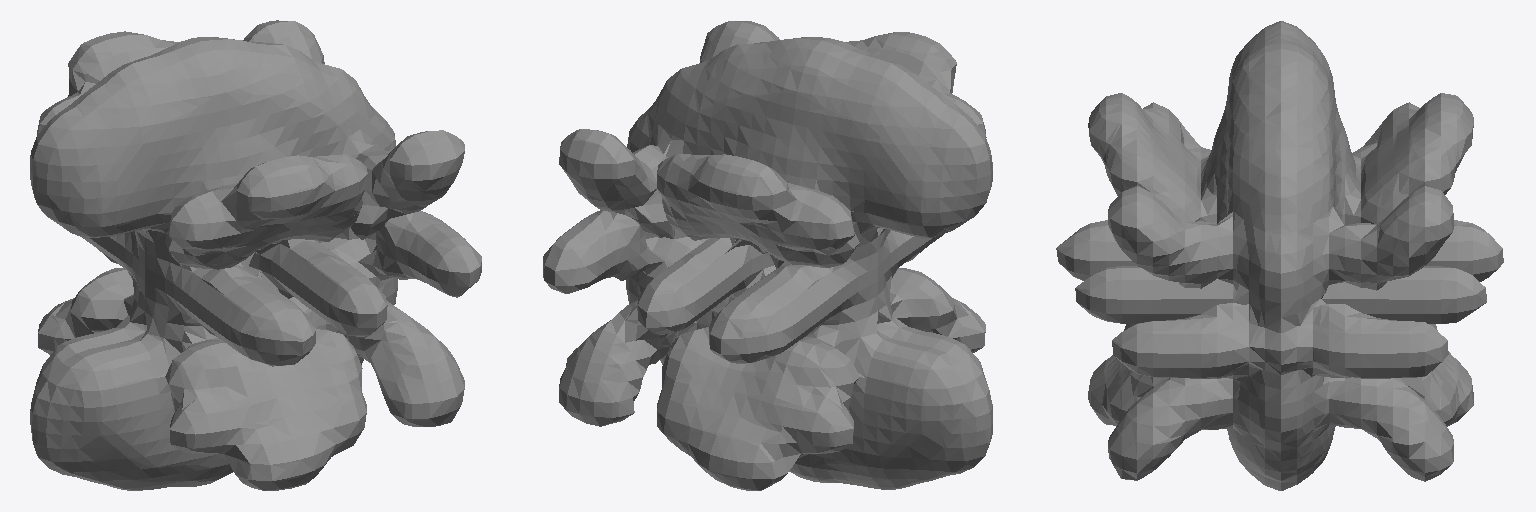
URDF robot description (cube.urdf):
<?xml version="0.0" ?> 
<robot name="cube.urdf"> 
<link name="legobrick"> 
<contact> 
<lateral_friction value="5.0"/> 
<rolling_friction value="0.0"/> 
<contact_cfm value="0.0"/> 
<contact_erp value="1.0"/> 
</contact> 
<inertial> 
<origin rpy="0 0 0" xyz="0.0 0.0 0.0"/> 
<mass value=".01"/> 
<inertia ixx="1" ixy="0" ixz="0" iyy="1" iyz="0" izz="1"/> 
</inertial> 
<visual> 
<origin rpy="1.570796 0 0" xyz="-0.027473672416160572 0.02736419058088714 -0.02732782996008111"/> 
<geometry> 
<mesh filename="N25_1.obj" scale="0.0006629928527070131 0.0006629928527070131 0.0006629928527070131"/> 
</geometry> 
<material name="yellow"> 
<color rgba="0.6 0.6 0.6 1"/> 
</material> 
</visual> 
<collision> 
<origin rpy="1.570796 0 0" xyz="-0.027473672416160572 0.02736419058088714 -0.02732782996008111"/> 
<geometry> 
<mesh filename="N25_1.obj" scale="0.0006629928527070131 0.0006629928527070131 0.0006629928527070131"/> 
</geometry> 
</collision> 
</link> 
</robot>

--- Facts derived from the render (not from the file) ---
3 views of the same robot in one strip: view 1: azimuth 30°, elevation 25°; view 2: azimuth 150°, elevation 25°; view 3: azimuth 270°, elevation 25° (orthographic).
Robot: cube.urdf — 1 links, 0 joints (none); root link legobrick; default pose: all joints at 0.
Links seen in each view (by area): view 1: legobrick; view 2: legobrick; view 3: legobrick.
Link boxes in pixels (<box>): legobrick: <box>30,20,481,490</box>; legobrick: <box>543,21,992,490</box>; legobrick: <box>1056,21,1503,490</box>.
Size in the robot's own frame: 0.053 by 0.056 by 0.0588 metres.
Meshes: 1 distinct files referenced, 1 mesh visuals loaded (1 OBJ).
